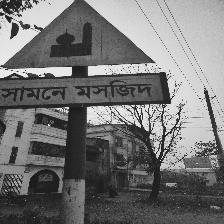Mosque in front: (0, 2, 167, 115)
